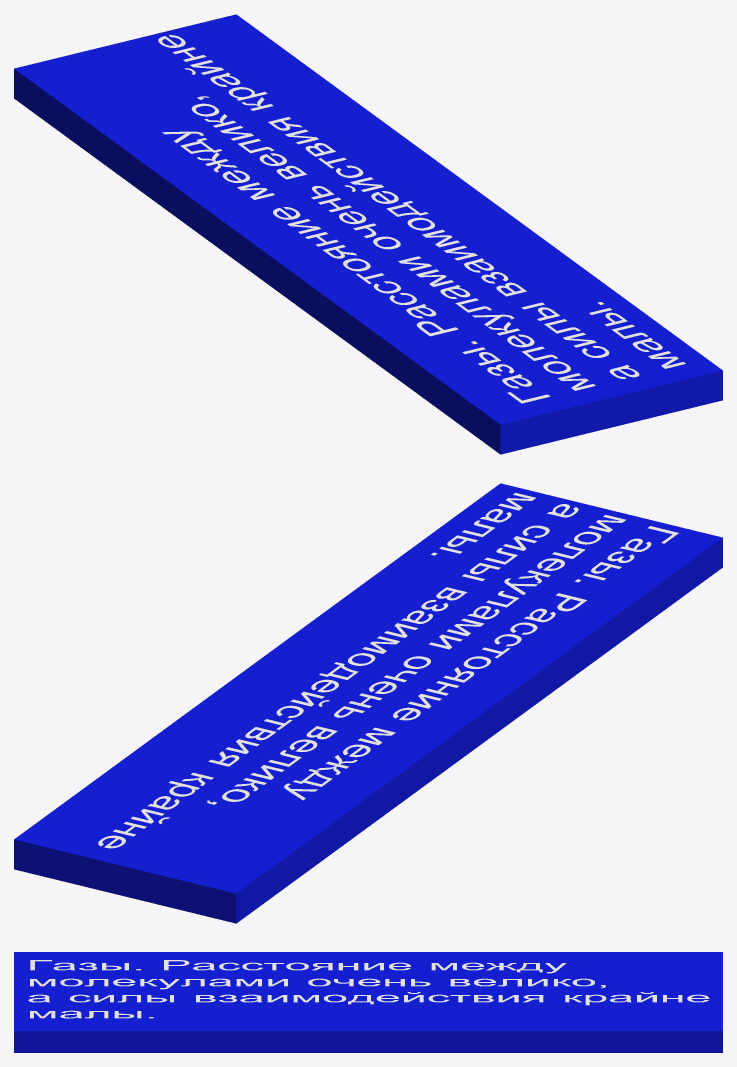
3 views of the same model, one above another, from view 1: azimuth 30°, elevation 25°; view 2: azimuth 150°, elevation 25°; view 3: azimuth 270°, elevation 25° (orthographic). The views are drawn at different scales.
Parts seen in each view (by area): view 1: Text001; view 2: Text001; view 3: Text001.
Boxes of the visible parts, box(x1,y1,x2,y2) form: Text001: box(14, 14, 722, 454); Text001: box(14, 483, 722, 923); Text001: box(14, 952, 722, 1052).
Bounding box in the file's own units: 21.16 × 3.17 × 80.2.
